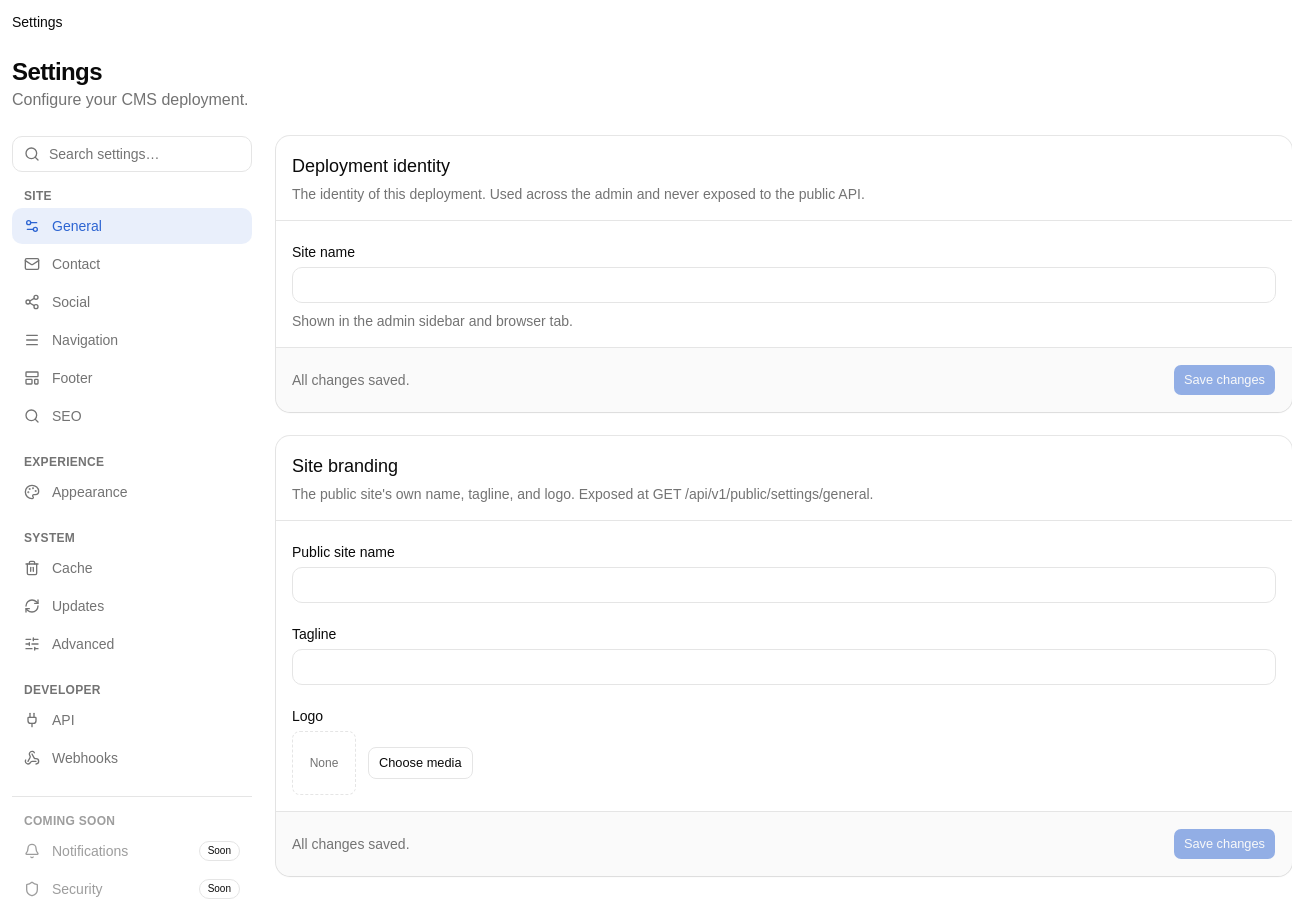
Test: SettingsPage › filters settings sections via search, matching on keywords as well as labels
Expected: the field labelled "Site name" is shown, left=292, top=267, right=1276, bottom=303
Type "webhook" into the field labelled "Search settings". click: {"x": 132, "y": 154}
box: left=12, top=136, right=252, bottom=172
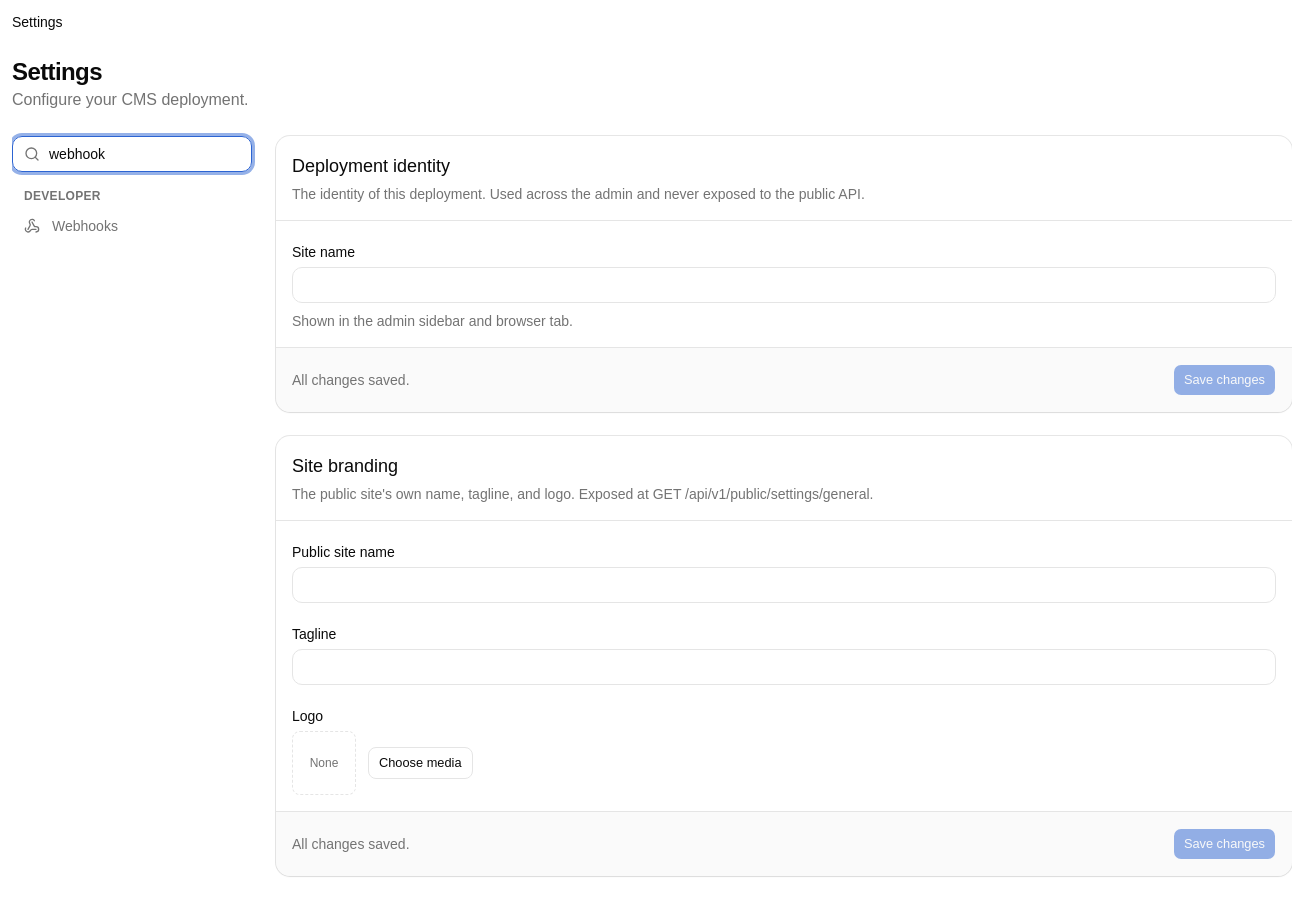
Expected: the button "Webhooks" is shown, left=12, top=208, right=252, bottom=244
Expected: the button "General" is not shown
Matches a keyword, not just the section's own label.
Replace the text in the field named "Search settings" with "logo". click: {"x": 132, "y": 154}
box: left=12, top=136, right=252, bottom=172
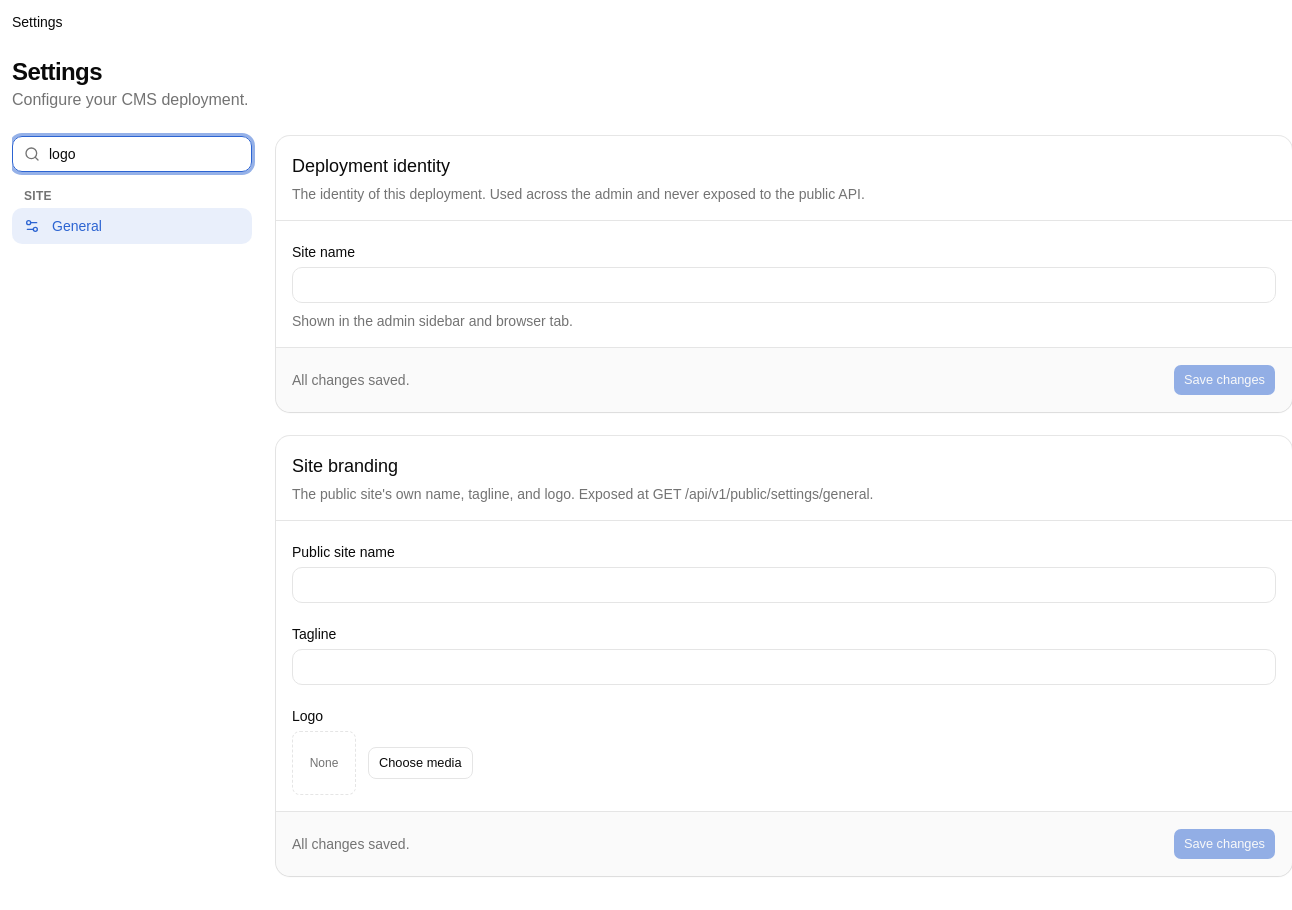
Expected: the button "Webhooks" is not shown
Expected: the button "General" is shown, left=12, top=208, right=252, bottom=244
Replace the text in the field named "Search settings" with "nonexistent-setting-xyz". click: {"x": 132, "y": 154}
box: left=12, top=136, right=252, bottom=172
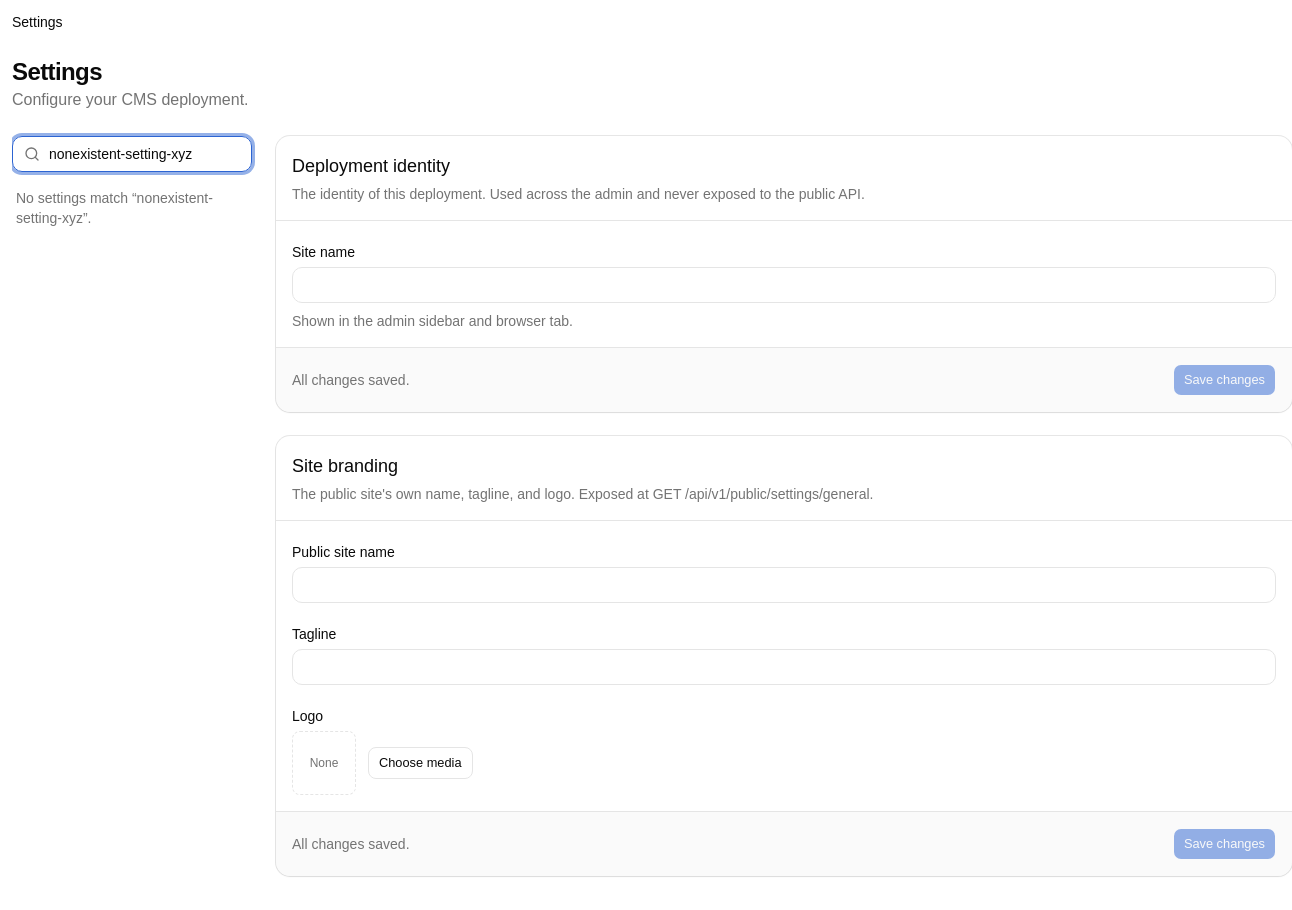
Expected: the text "No settings match “nonexistent-setting-xyz”." is shown, left=16, top=190, right=213, bottom=226
